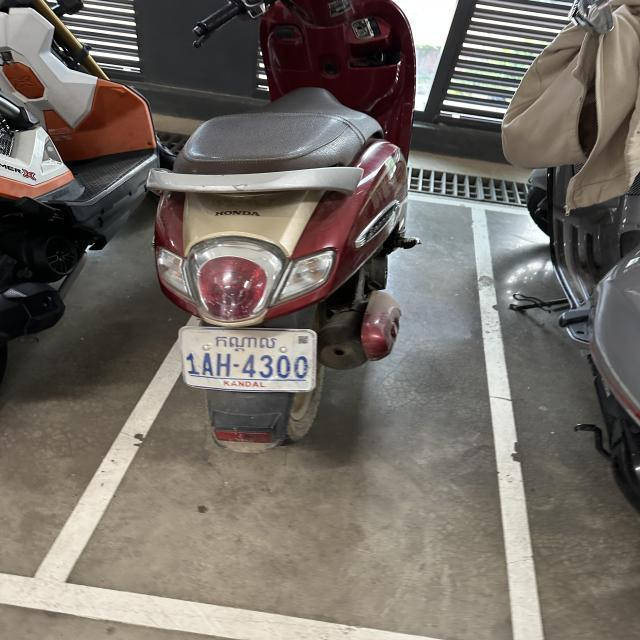Kandal: (210, 333, 282, 352)
